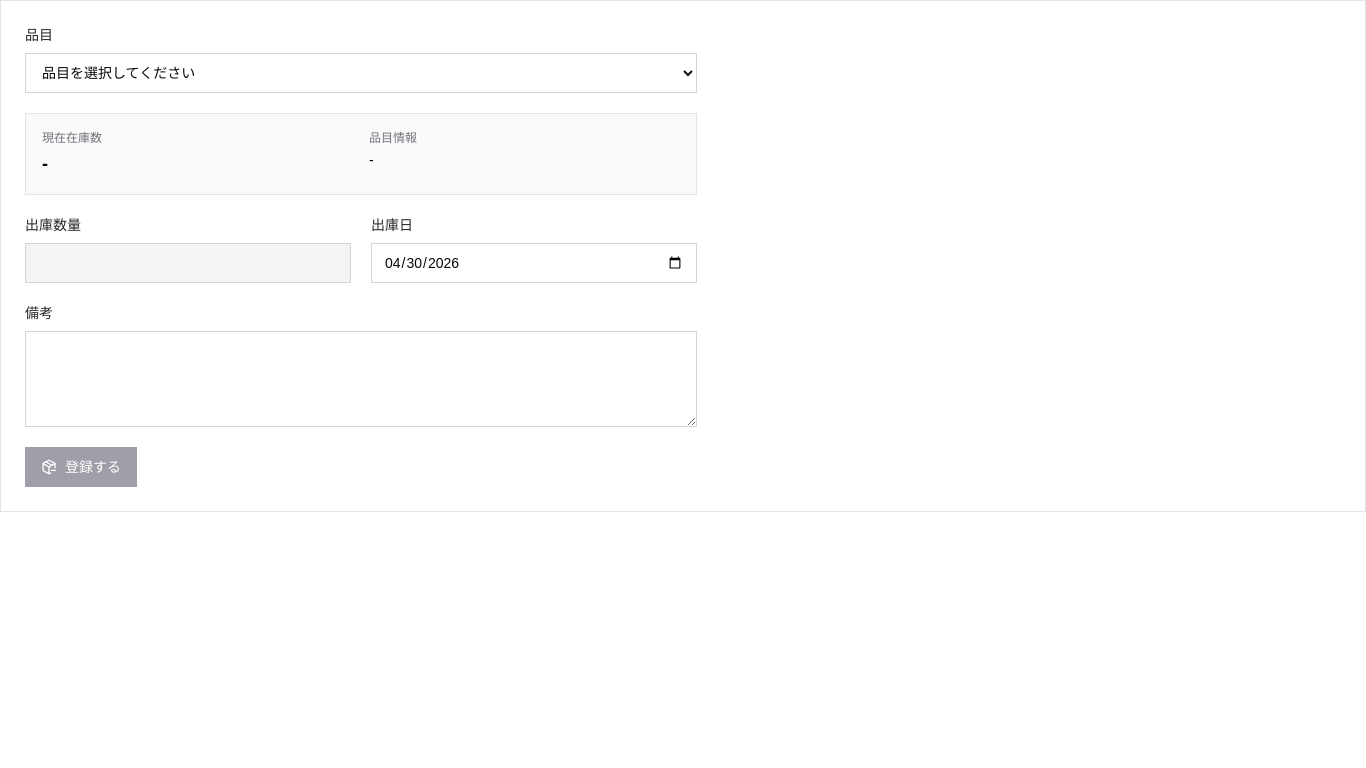
Test: OutboundRegistrationForm › 在庫 0 の品目では数量入力と登録ボタンが無効になる
Select "2 - 在庫ゼロ品目" in the dropdown labelled "品目" at coordinates (361, 73), box x1=25 y1=53 x2=697 y2=93
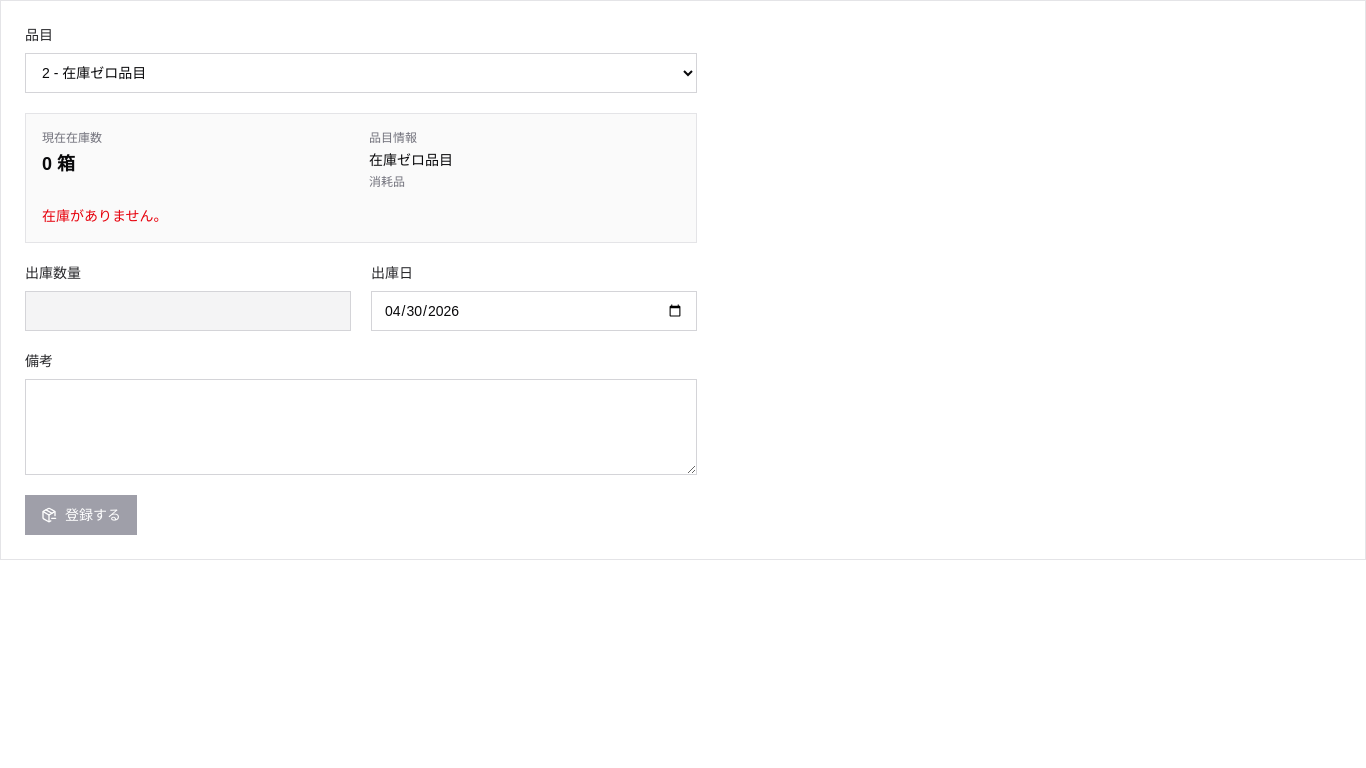
Expected: the number field labelled "出庫数量" is disabled, x1=25 y1=291 x2=351 y2=331
Now the text "0 箱" is shown, box x1=42 y1=154 x2=75 y2=174
Now the text "在庫がありません。" is shown, box x1=42 y1=208 x2=168 y2=224
